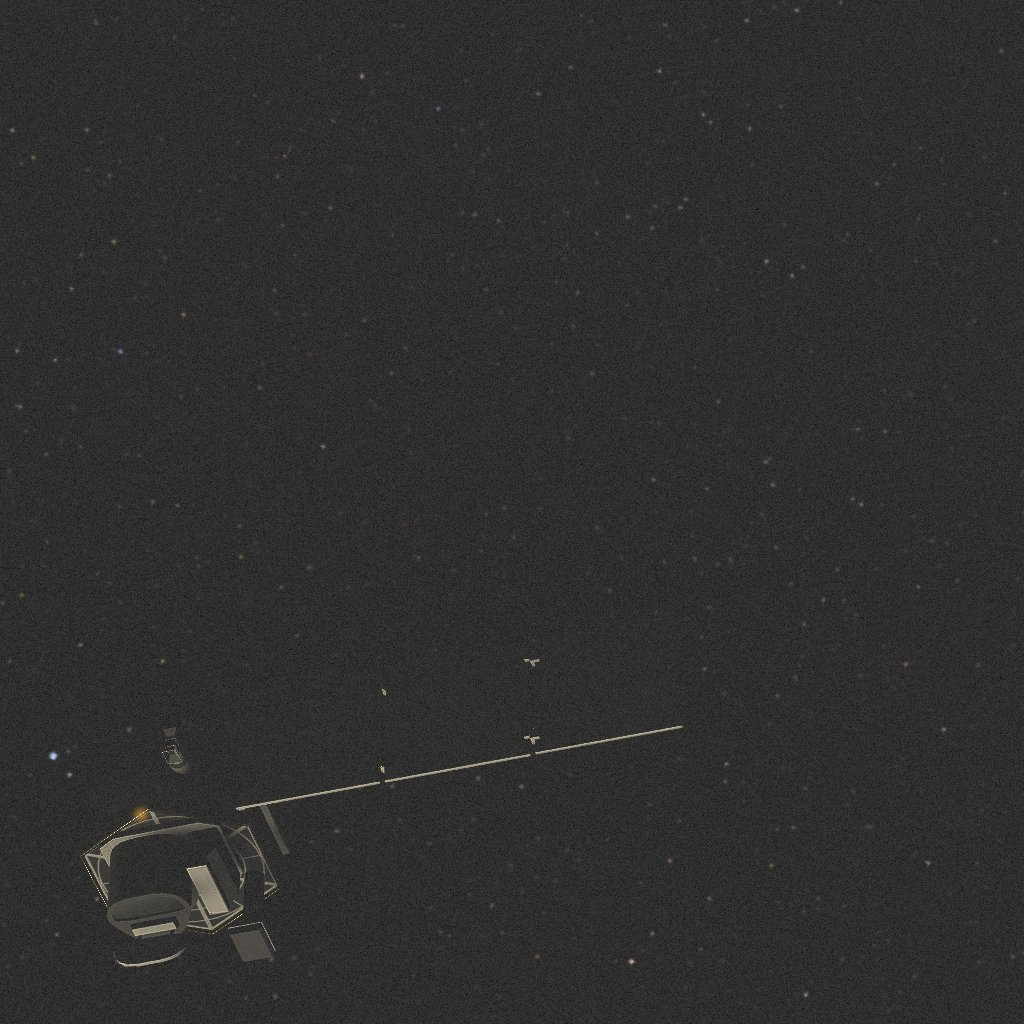earth_observation_sat_1: (80, 612, 683, 968)
